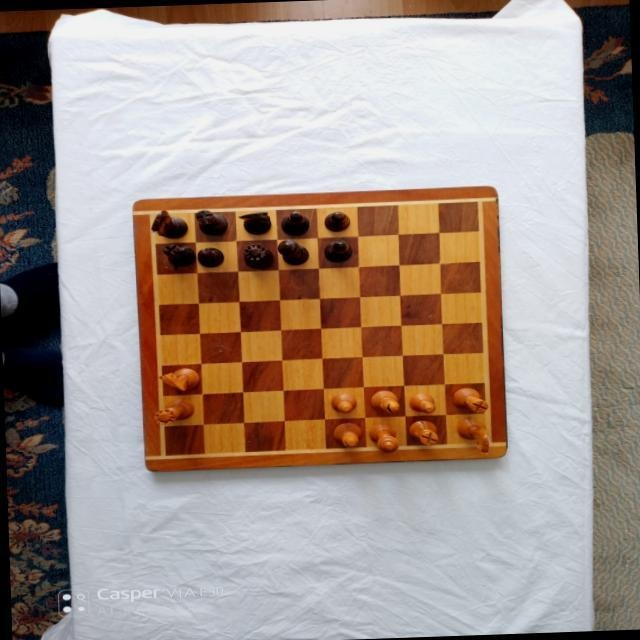black-bishop: (278, 209, 309, 236), (321, 238, 352, 263)
black-king: (275, 238, 308, 265)
black-knight: (148, 208, 187, 239), (236, 211, 271, 236)
black-pawn: (321, 211, 350, 233), (193, 247, 222, 269)
black-queen: (241, 241, 274, 270)
black-rook: (192, 208, 227, 236), (160, 241, 195, 266)
white-bishop: (331, 421, 362, 448), (369, 389, 399, 414)
white-king: (367, 422, 399, 454)
white-knight: (455, 415, 488, 454), (156, 367, 199, 392)
white-pawn: (408, 391, 436, 414), (330, 392, 357, 412)
white-queen: (149, 397, 194, 426)
white-rook: (452, 386, 488, 414), (406, 419, 437, 446)
